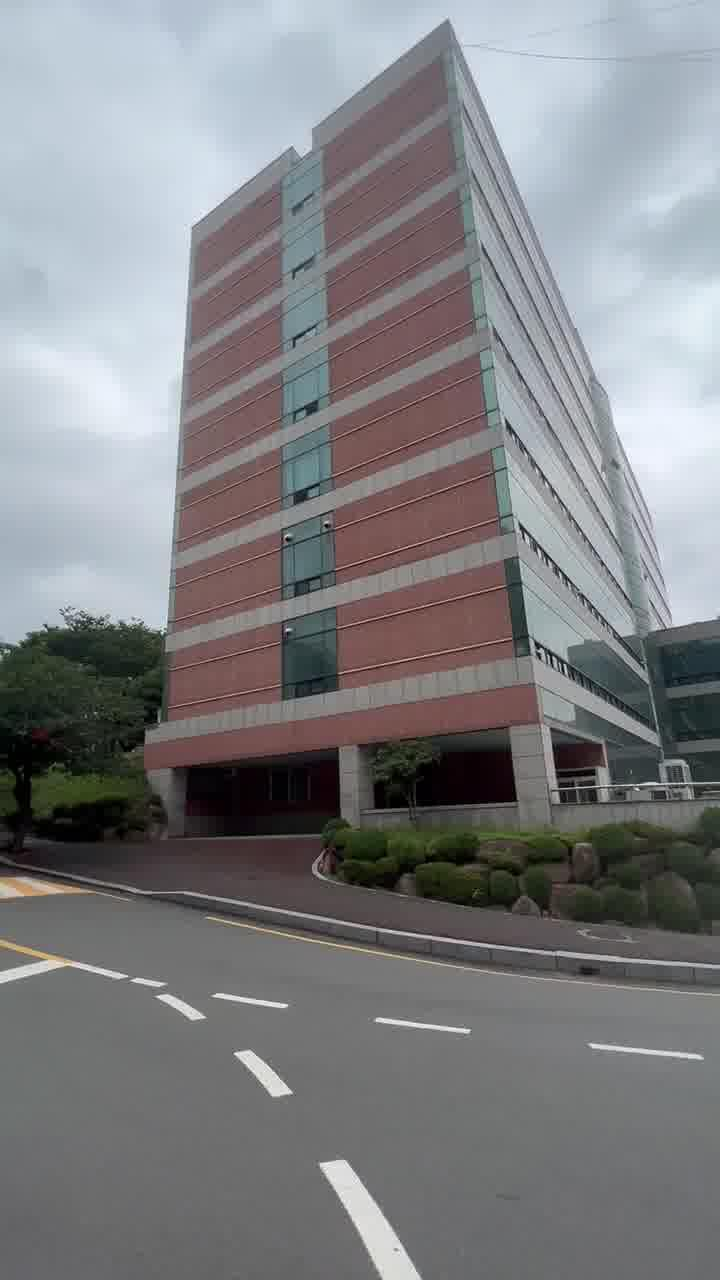building: (192, 32, 596, 744)
